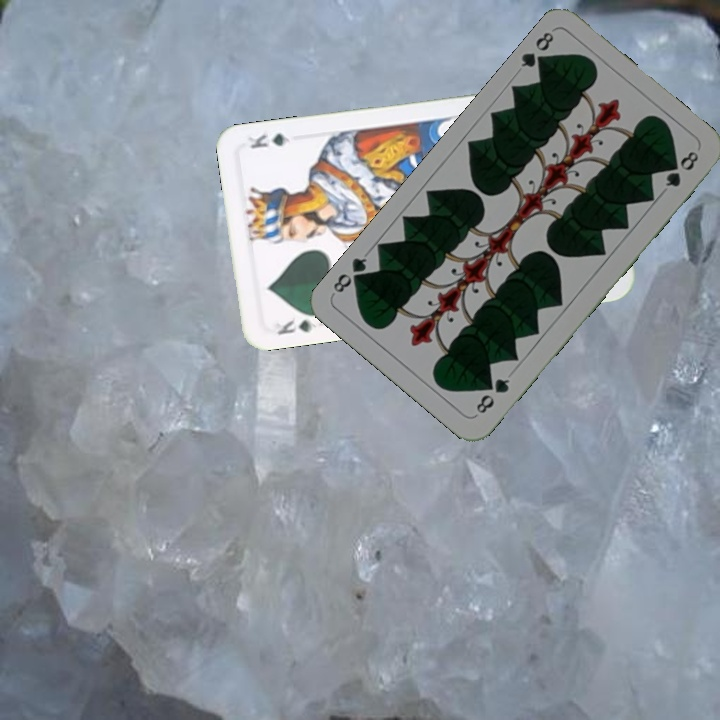G8: (516, 27, 557, 73), (471, 374, 513, 417)
GK: (273, 315, 319, 338)
